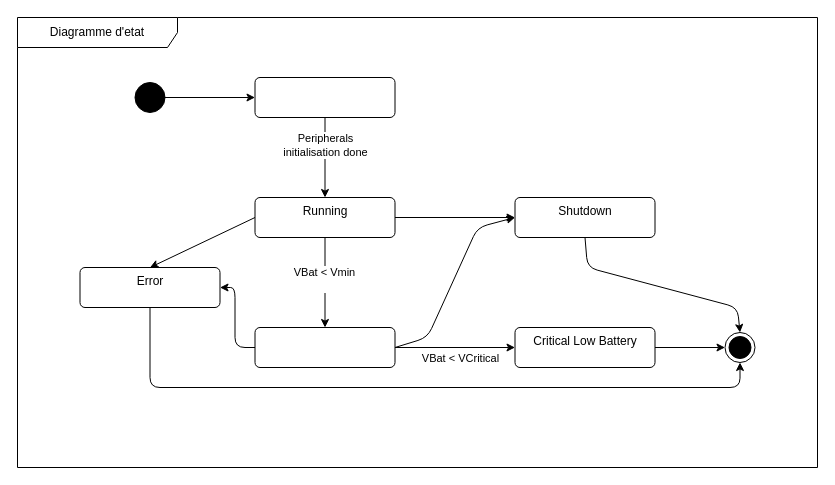
Image size: 835x485. Some labels were removed from this diagram. The centre of each missing label's shape, as x and y in pixels:
"Low Battery" goes at pixel 324 347.
"Startup" goes at pixel 324 97.
